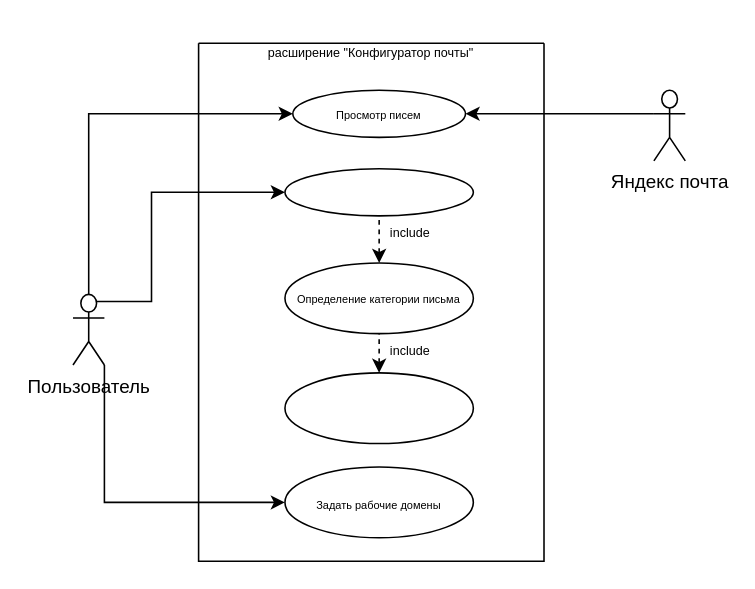
The diagram is 755 pixels wide and 589 high, and some of its shapes have lost their labels. The box of each missing label's shape, as (x1, y1, x2, y2) in pixels:
Визуальная цветная метка: (283, 167, 473, 216)
Проверка письма на фишинг: (283, 371, 473, 444)
